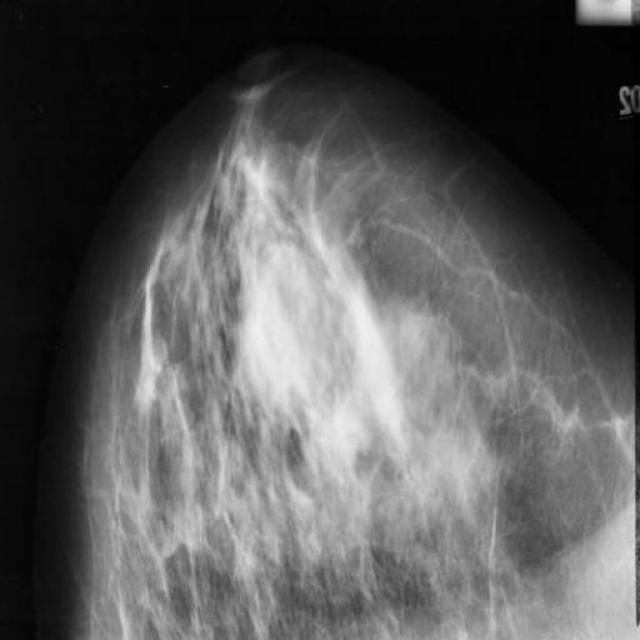cancer: (236, 138, 300, 228)
